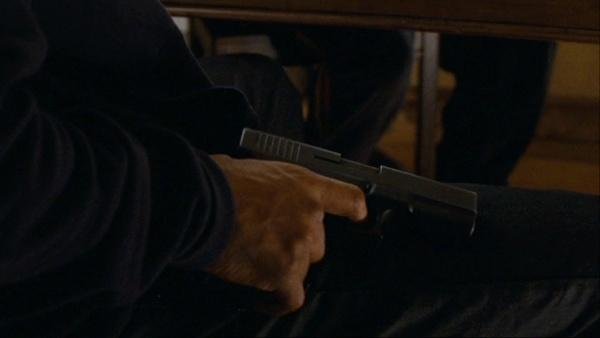Gun: (235, 127, 478, 246)
